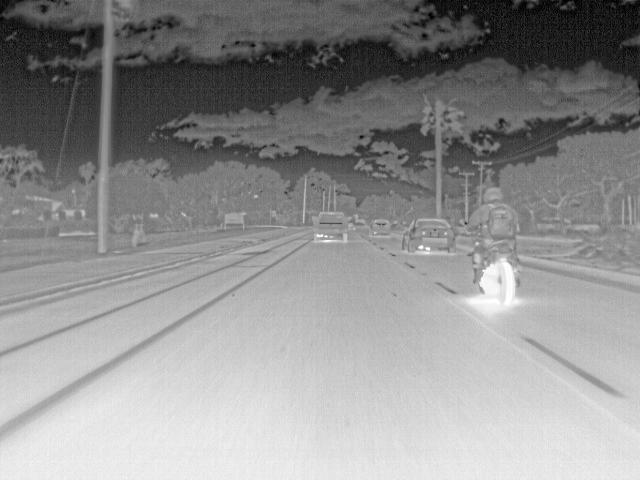car: (400, 215, 456, 255), (313, 210, 351, 246), (372, 216, 392, 234), (351, 216, 369, 234)
person: (469, 184, 516, 254)
